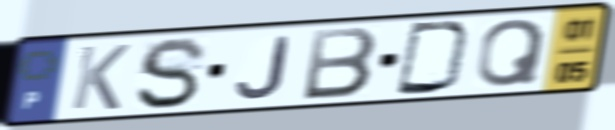B: (299, 25, 381, 103)
D: (392, 19, 476, 97)
J: (232, 34, 294, 101)
K: (67, 42, 134, 113)
Q: (473, 16, 550, 90)
S: (132, 35, 211, 112)
